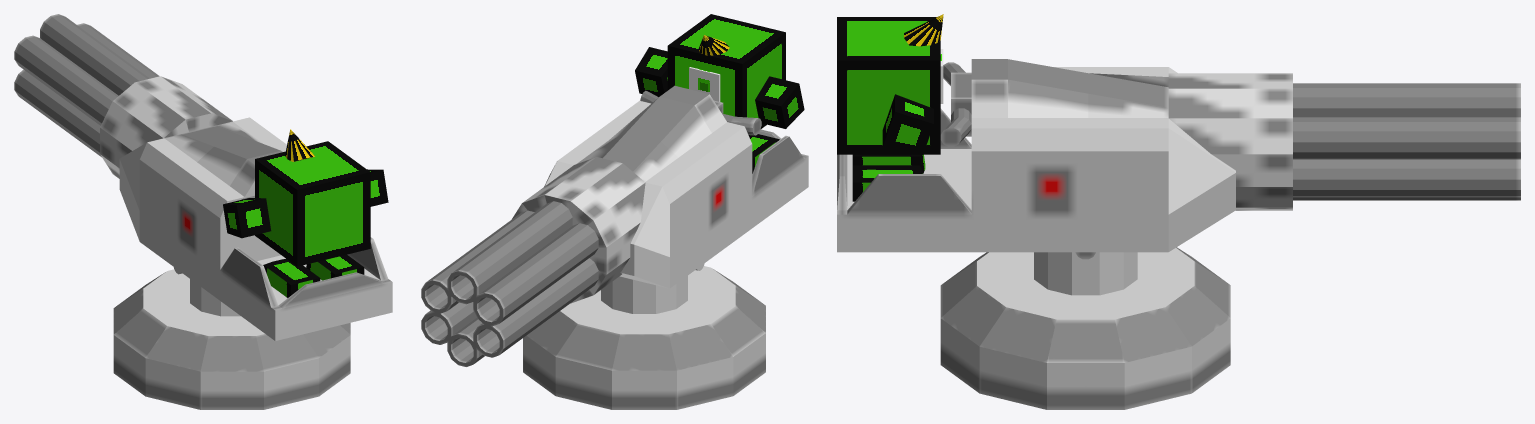
File: akudo-fu+houdai-gatoringu3.fbx
The picture shows the model from 3 angles, left to right: view 1: azimuth 30°, elevation 25°; view 2: azimuth 150°, elevation 25°; view 3: azimuth 270°, elevation 25°; orthographic projection. The views are drawn at different scales.
Visible parts, largest first — view 1: cuboid_6, cylinder, cuboid, cylinder_11, cylinder_9, cylinder_8, cylinder_10, cuboid_4, cuboid_2, cuboid_1, cylinder_1, cylinder_7 (+2 smaller); view 2: cuboid_6, cylinder, cylinder_11, cuboid, cylinder_9, cylinder_8, cylinder_10, cylinder_1, cuboid_4, cylinder_7, cylinder_6, cuboid_3 (+5 smaller); view 3: cuboid_6, cylinder, cylinder_11, cuboid, cylinder_7, cylinder_6, cylinder_8, cylinder_1, cuboid_3, cylinder_4, cuboid_1, cylinder_2 (+3 smaller).
Part boxes in pixels (x1,y1,x2,y2): cuboid_6: (119,117,392,340); cylinder: (113,269,350,409); cuboid: (255,141,370,266); cylinder_11: (100,76,232,178); cylinder_9: (14,35,118,125); cylinder_8: (40,14,149,95); cylinder_10: (14,69,101,157); cuboid_4: (223,198,271,238); cuboid_2: (263,259,320,297); cuboid_1: (306,254,364,280); cylinder_1: (190,279,240,316); cylinder_7: (77,23,159,78); cuboid_6: (544,85,808,288); cylinder: (523,266,765,409); cylinder_11: (512,157,645,303); cuboid: (667,14,785,137); cylinder_9: (473,223,598,326); cylinder_8: (447,201,572,304); cylinder_10: (473,258,598,357); cylinder_1: (601,275,687,313); cuboid_4: (755,76,804,128); cylinder_7: (421,210,534,313); cylinder_6: (421,302,476,344); cuboid_3: (635,47,667,96); cuboid_6: (837,59,1235,252); cylinder: (940,247,1230,409); cylinder_11: (1168,73,1292,210); cuboid: (837,17,940,154); cylinder_7: (1293,117,1520,159); cylinder_6: (1293,159,1520,197); cylinder_8: (1293,83,1520,117); cylinder_1: (1034,252,1137,295); cuboid_3: (882,94,933,155); cylinder_4: (940,62,971,146); cuboid_1: (852,165,922,201); cylinder_2: (1293,197,1520,200).
Size of the model in its own units: 175 by 223 by 412.
